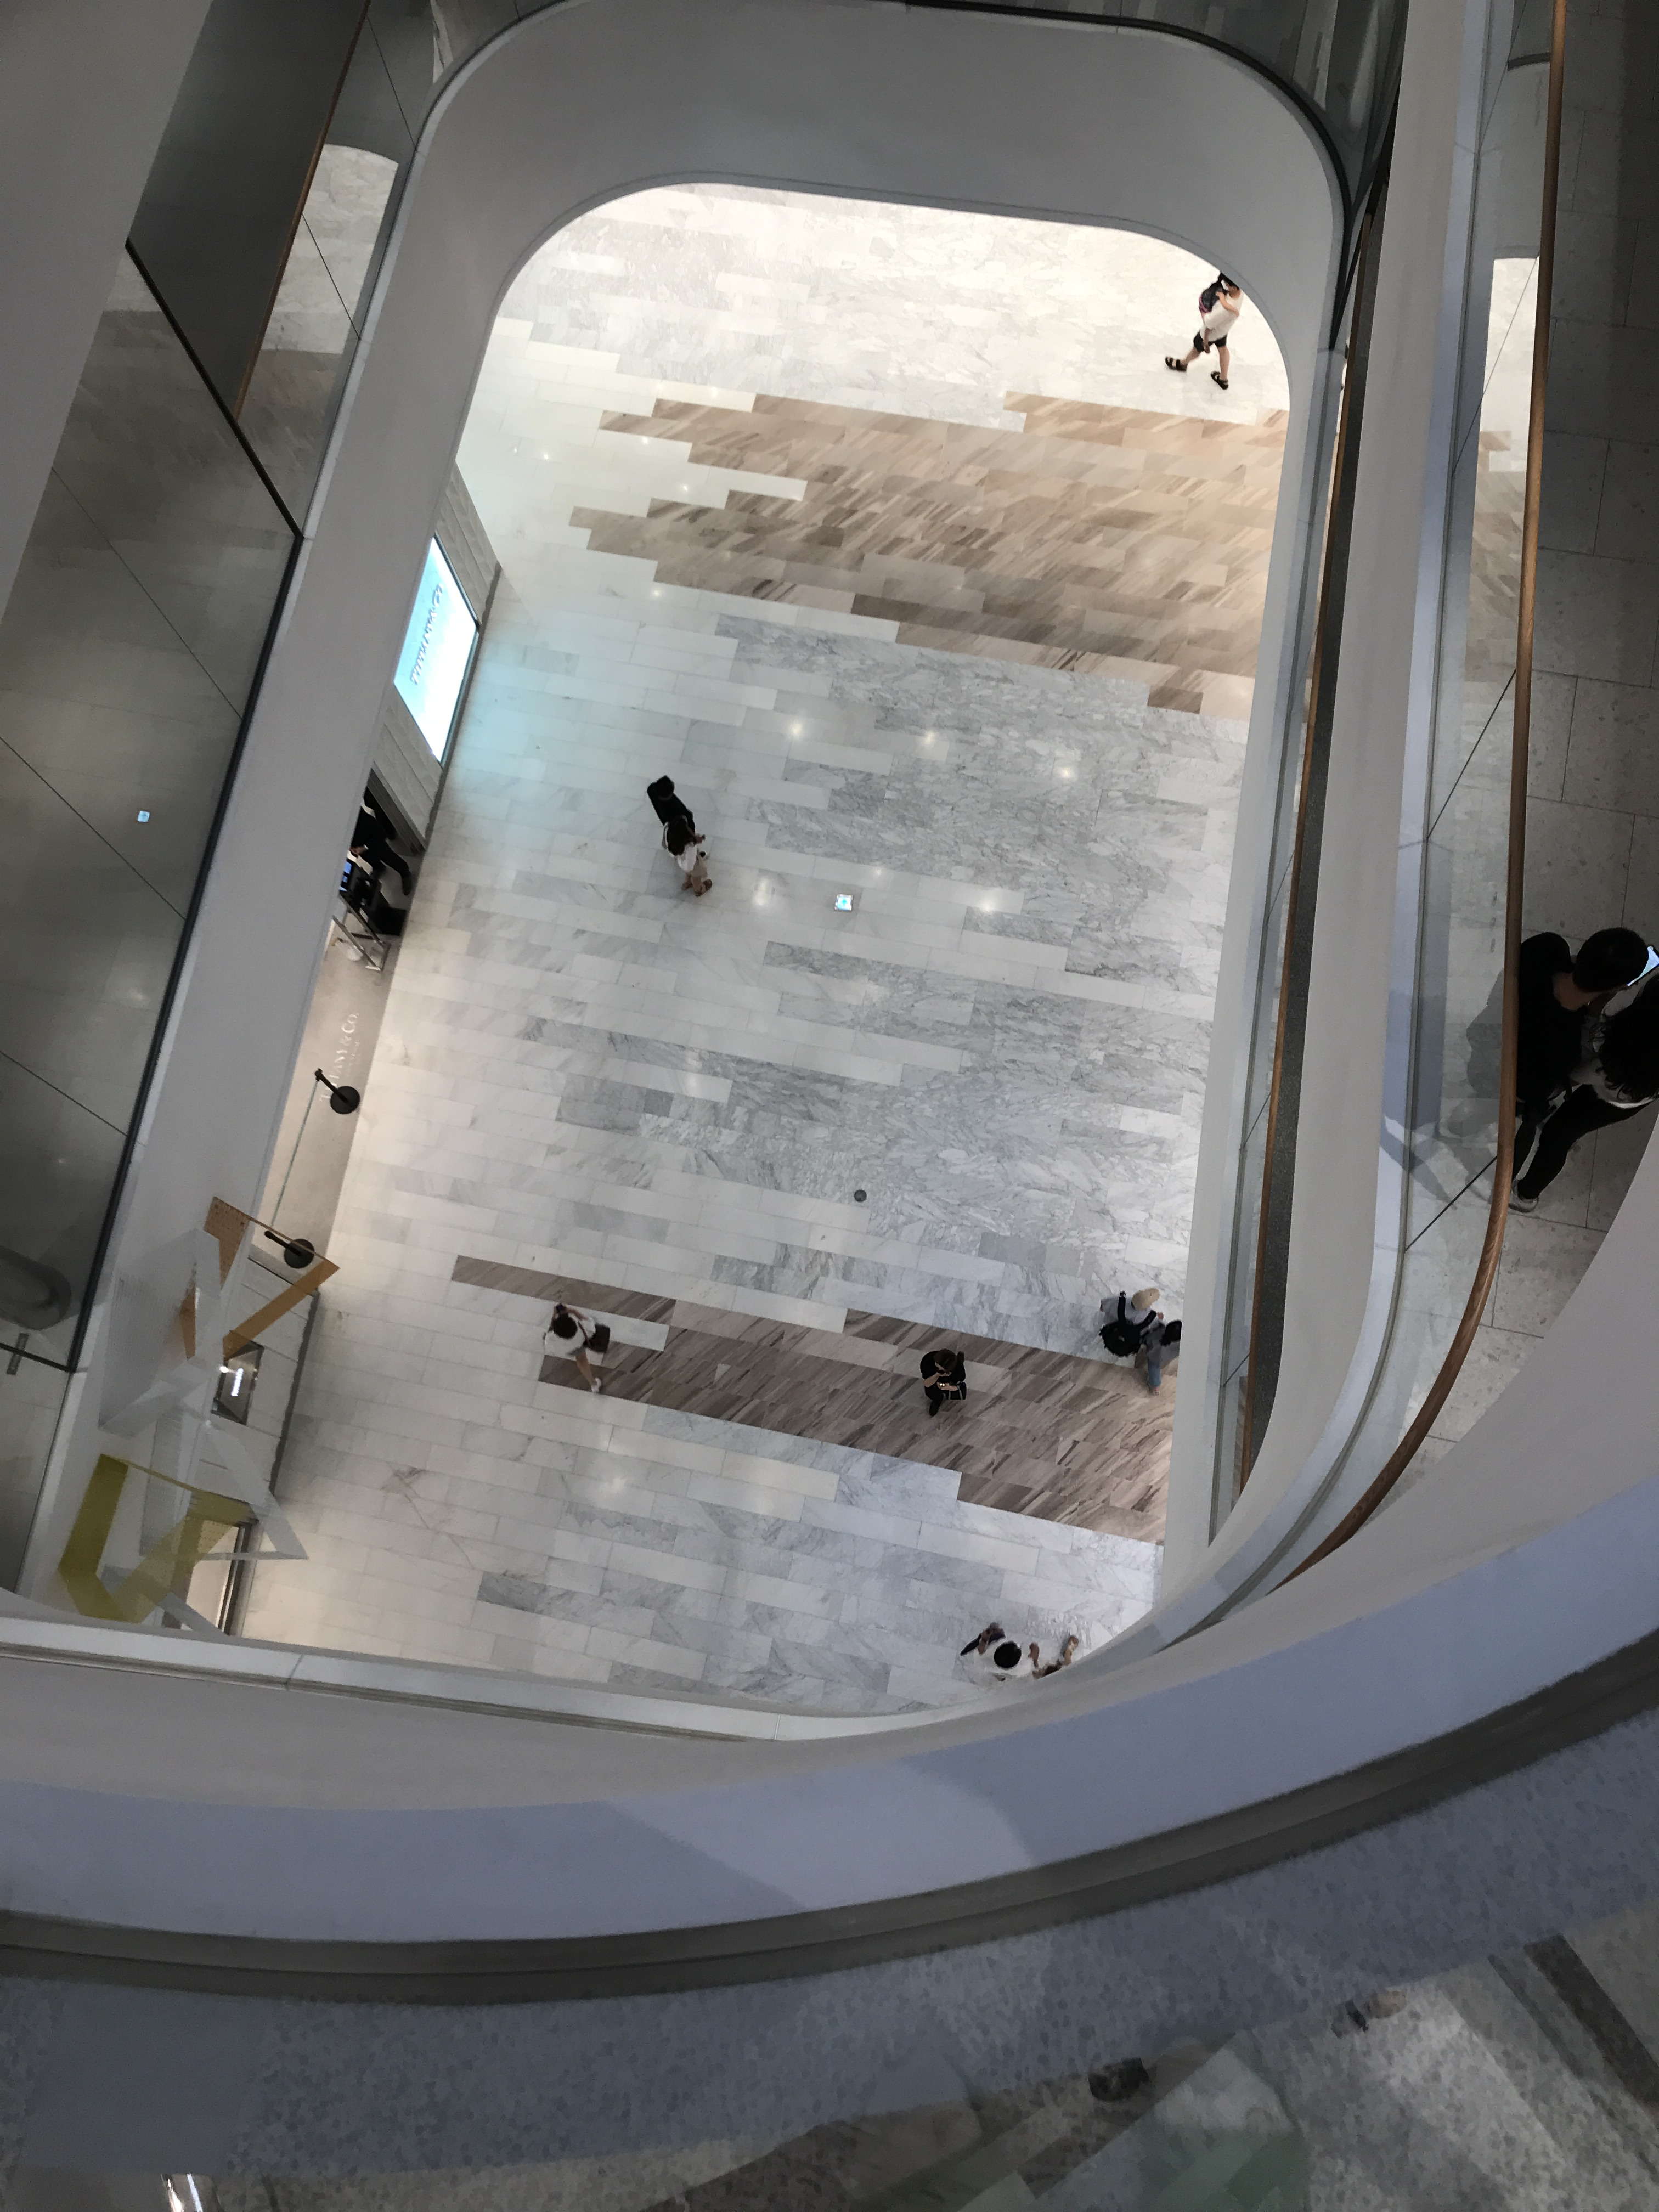person: (1467, 970, 1659, 1211), (1449, 926, 1644, 1133), (1164, 273, 1243, 390), (543, 1305, 611, 1397), (662, 810, 712, 896), (1096, 1288, 1159, 1358), (650, 775, 702, 855), (921, 1348, 970, 1421), (975, 1625, 1039, 1683), (1136, 1320, 1183, 1392)
